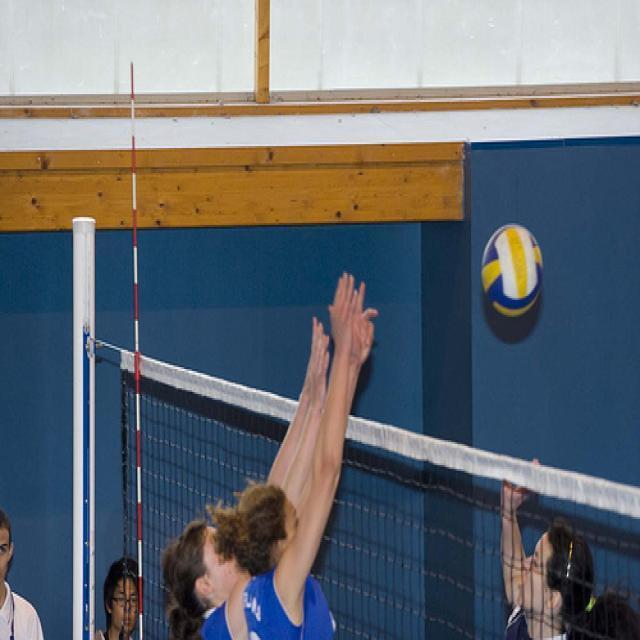volleyball: (481, 224, 543, 316)
